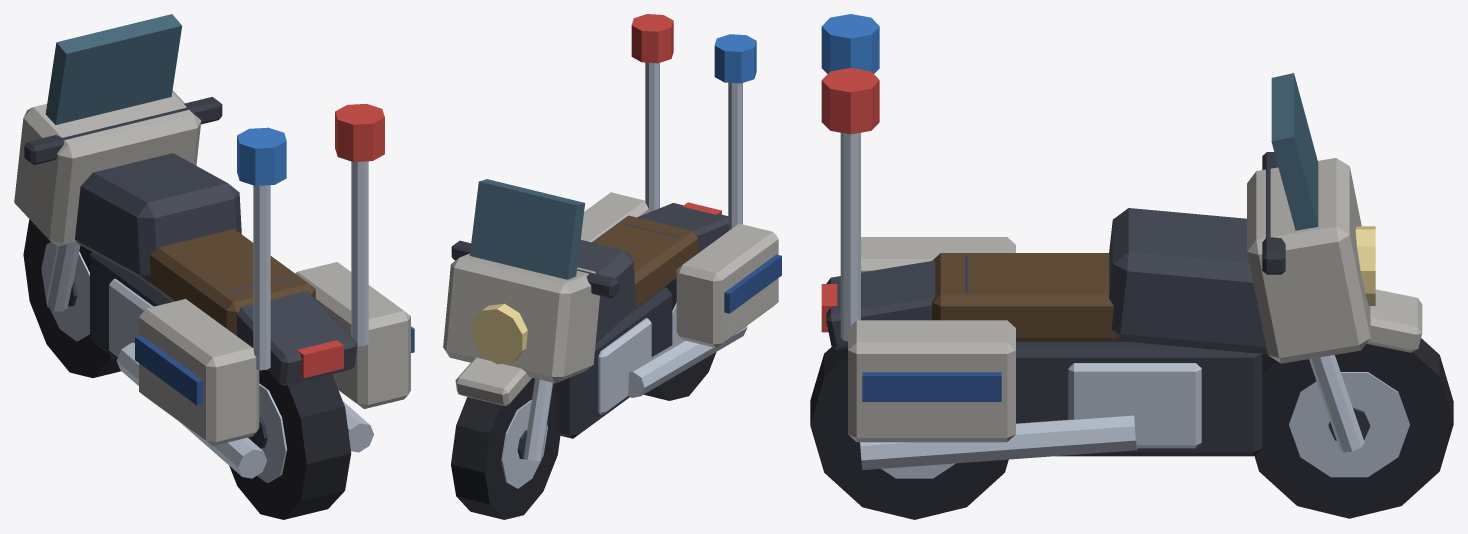
Rendered from Stylized_Vehicle_Police_Motorcycle.fbx.
3 views of the same model, side by side, from view 1: azimuth 30°, elevation 25°; view 2: azimuth 150°, elevation 25°; view 3: azimuth 270°, elevation 25° (orthographic). The views are drawn at different scales.
Visible parts, largest first — view 1: Stylized_Vehicle_Police_Motorcycle; view 2: Stylized_Vehicle_Police_Motorcycle; view 3: Stylized_Vehicle_Police_Motorcycle.
Part boxes in pixels (left/top/right/bottom): Stylized_Vehicle_Police_Motorcycle: left=14, top=14, right=414, bottom=519; Stylized_Vehicle_Police_Motorcycle: left=443, top=14, right=781, bottom=519; Stylized_Vehicle_Police_Motorcycle: left=810, top=14, right=1453, bottom=519.
Size of the model in its own units: 0.9784 by 1.73 by 2.22.
